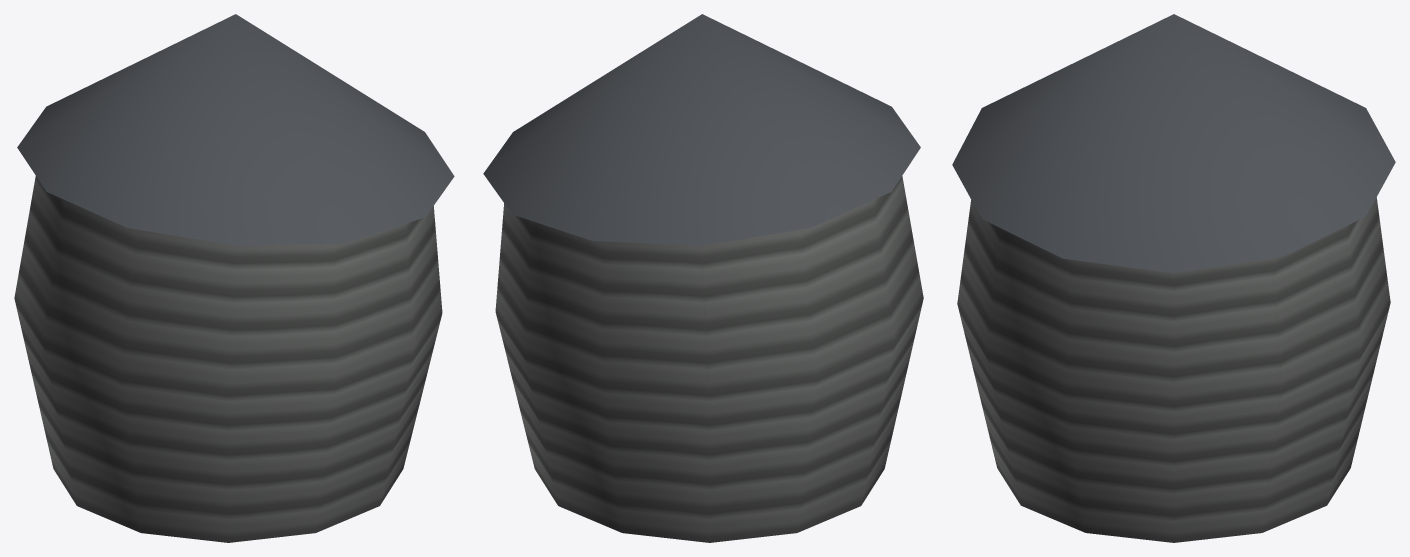
File: WaterTank_B1.fbx
3 views of the same model, side by side, from view 1: azimuth 30°, elevation 25°; view 2: azimuth 150°, elevation 25°; view 3: azimuth 270°, elevation 25° (orthographic).
Parts seen in each view (by area): view 1: WaterTank_B1; view 2: WaterTank_B1; view 3: WaterTank_B1.
Part boxes in pixels (x1=…): WaterTank_B1: x1=14, y1=14, x2=454, y2=542; WaterTank_B1: x1=483, y1=14, x2=923, y2=542; WaterTank_B1: x1=952, y1=14, x2=1395, y2=542.
Size of the model in its own units: 274 by 310 by 272.
Materials: 1 (1 with a texture image).
